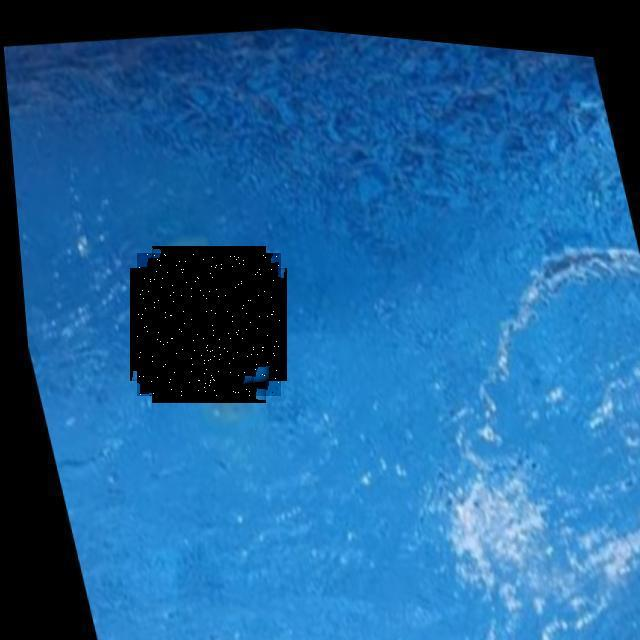swimming: (137, 253, 281, 396)
